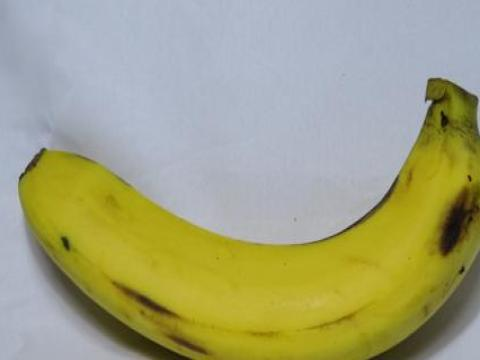freshripe: (6, 66, 479, 359)
